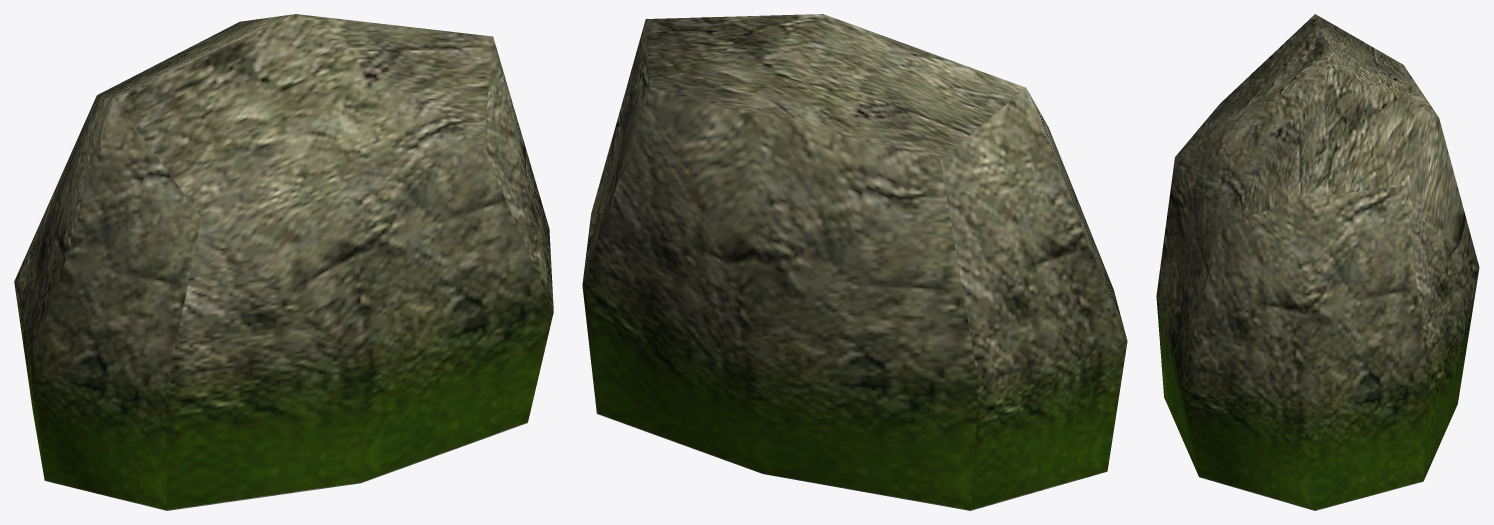
File: nast7.dae
3 renders of one model, left to right at view 1: azimuth 30°, elevation 25°; view 2: azimuth 150°, elevation 25°; view 3: azimuth 270°, elevation 25°, orthographic. The views are drawn at different scales.
Parts seen in each view (by area): view 1: stonegreen05; view 2: stonegreen05; view 3: stonegreen05.
Part boxes in pixels (box(x1,y1,x2,y2)): stonegreen05: box(14, 14, 553, 510); stonegreen05: box(582, 14, 1127, 510); stonegreen05: box(1156, 14, 1479, 510).
Bounding box in the file's own units: 3.61 × 2.23 × 2.61.
Materials: 1 (1 with a texture image).
